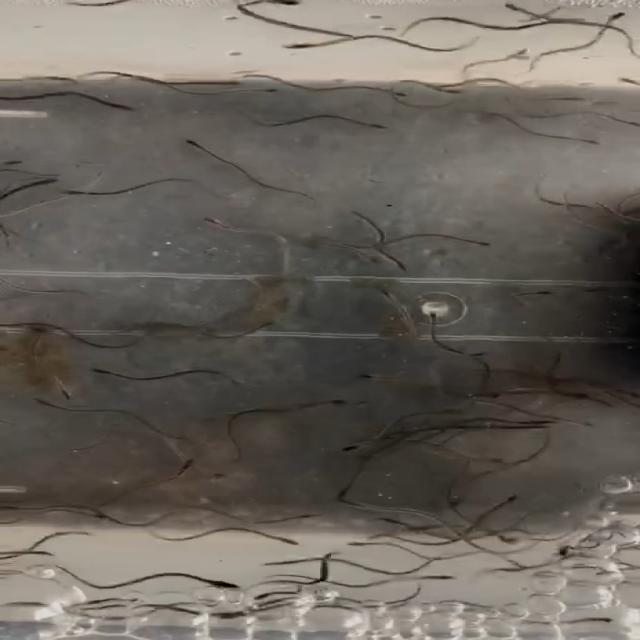active_glass_eel: (277, 35, 323, 56), (96, 97, 144, 117), (175, 138, 218, 159), (375, 283, 403, 313), (516, 286, 568, 302), (189, 209, 226, 231), (208, 464, 241, 488), (504, 4, 546, 22), (10, 176, 64, 190), (334, 435, 372, 454), (564, 134, 604, 152), (54, 182, 99, 198), (252, 556, 296, 572), (338, 497, 376, 515), (263, 530, 305, 546), (202, 578, 244, 594), (346, 370, 382, 388), (312, 391, 350, 408), (416, 568, 456, 584), (546, 10, 586, 26), (359, 118, 397, 134), (54, 382, 84, 402), (548, 91, 592, 104), (204, 76, 250, 88), (374, 85, 406, 102), (550, 540, 584, 556), (422, 308, 452, 326), (83, 364, 119, 379), (20, 544, 56, 559), (246, 592, 290, 604), (44, 71, 84, 84), (431, 85, 468, 99), (598, 9, 630, 25), (252, 0, 308, 9), (460, 235, 494, 249), (386, 256, 412, 274), (293, 510, 335, 521), (346, 541, 388, 552), (498, 492, 525, 509), (506, 421, 540, 434), (248, 82, 284, 94), (257, 316, 281, 334), (0, 154, 26, 168), (178, 456, 198, 474), (528, 414, 557, 426), (614, 75, 640, 88)
